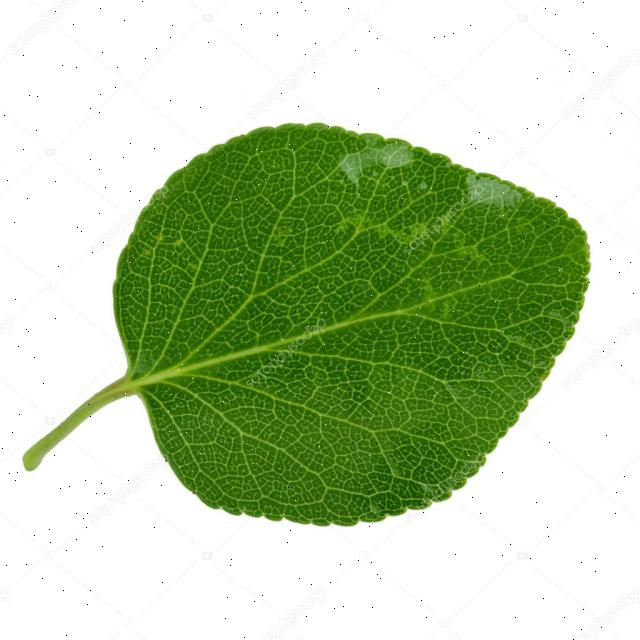kayisi yapragi: (110, 112, 590, 527)
